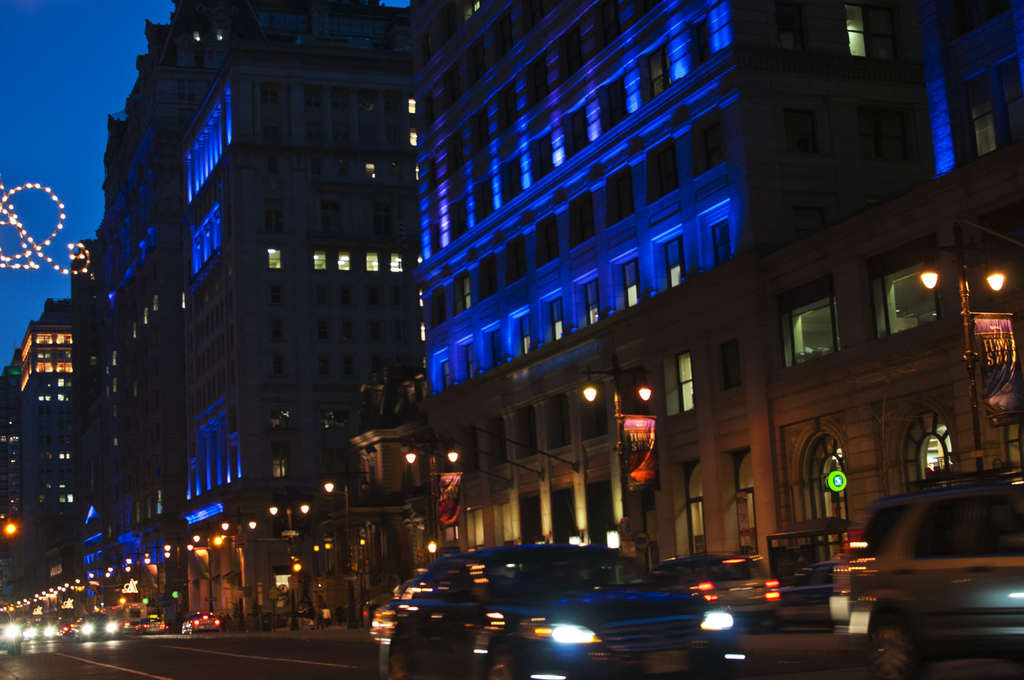mobil: (357, 545, 763, 680)
